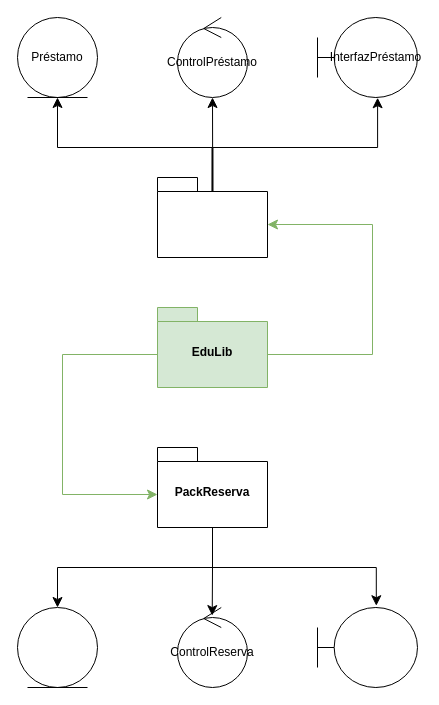
Image size: 439x705. Some labels were removed from this diagram. Here are the shapes that lost their labels. From the top down, the centre of each, then its label:
[212,217]: PackPréstamo
[57,647]: Reserva
[367,647]: InterfazReserva
